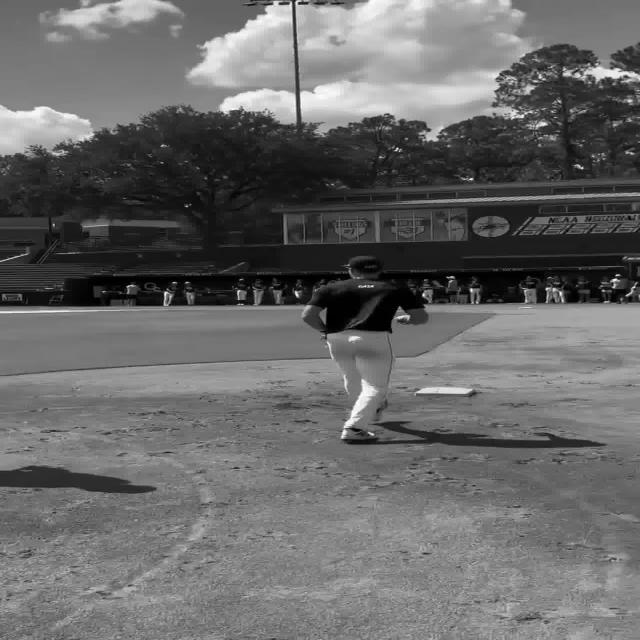base: (416, 386, 476, 396)
shoe: (340, 428, 378, 444)
